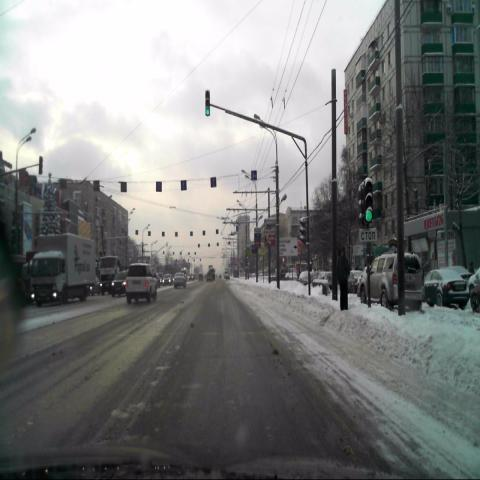5_15_2: (210, 177, 216, 188), (180, 180, 186, 191)
6_16: (359, 229, 377, 242)
